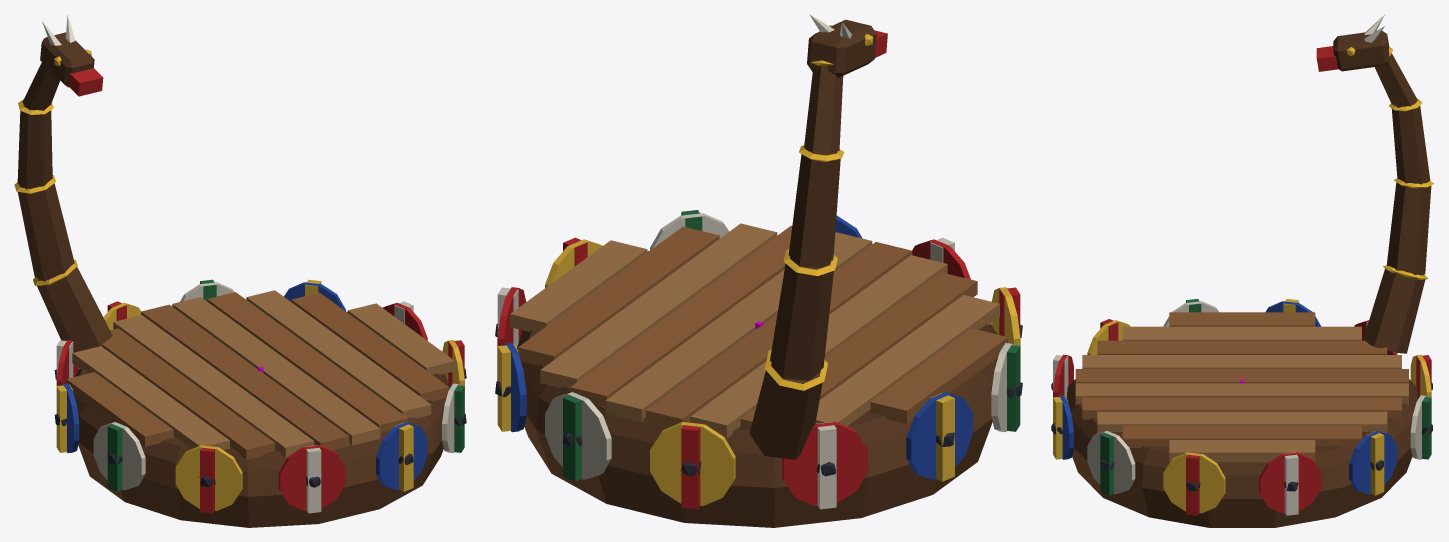
File: Platform_VikingShiba.fbx
3 views of the same model, side by side, from view 1: azimuth 30°, elevation 25°; view 2: azimuth 150°, elevation 25°; view 3: azimuth 270°, elevation 25° (orthographic). The views are drawn at different scales.
Visible parts, largest first — view 1: Body.001; view 2: Body.001; view 3: Body.001.
Boxes of the visible parts, box(x1,y1,x2,y2) form: Body.001: box(14, 15, 466, 527); Body.001: box(495, 14, 1022, 527); Body.001: box(1051, 14, 1434, 527).
Size of the model in its own units: 9.13 by 10.02 by 9.14.
